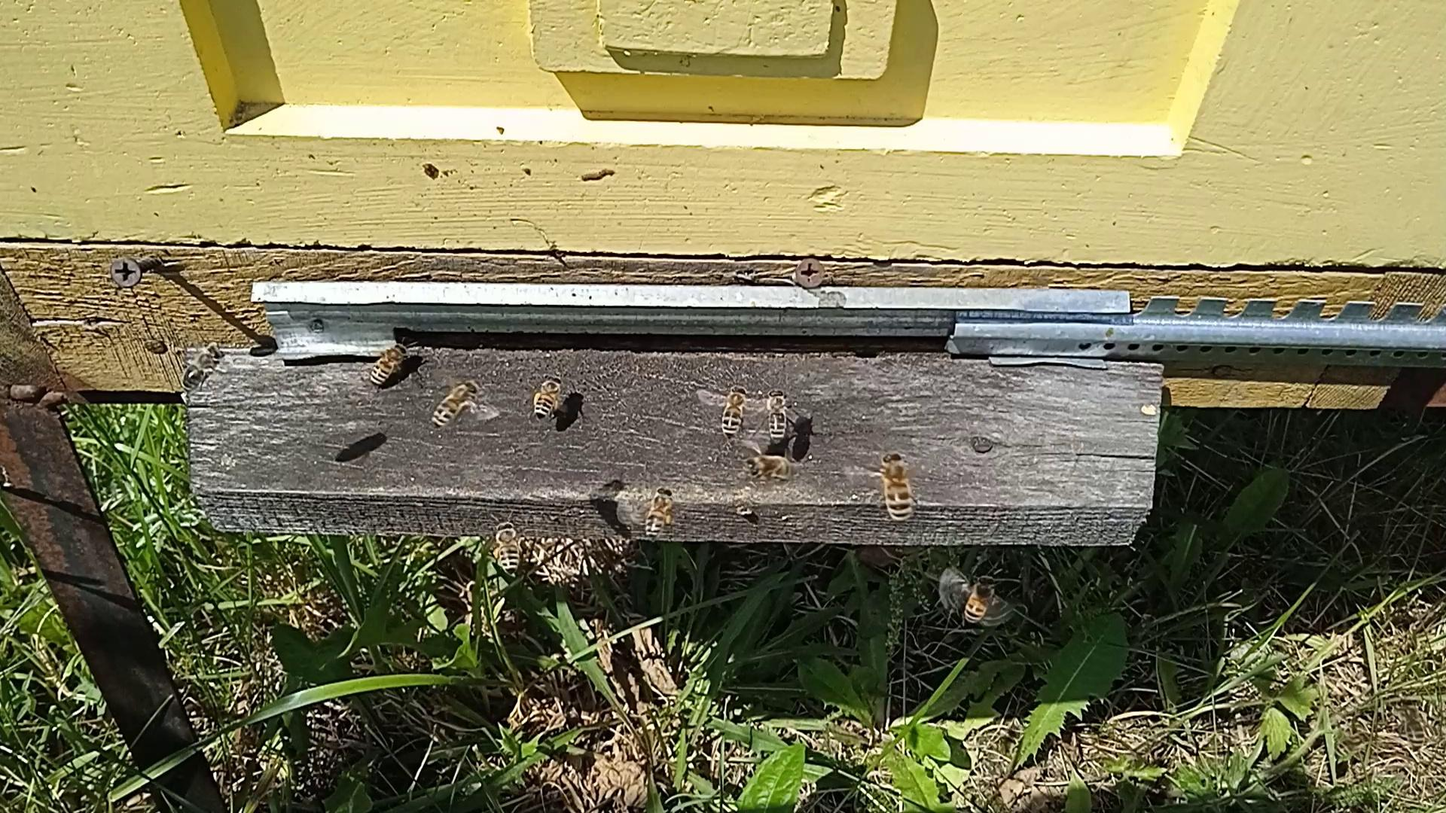worker-bee: (878, 451, 915, 522), (431, 379, 480, 428), (183, 343, 225, 390), (371, 340, 413, 386), (642, 486, 676, 540), (964, 575, 996, 625), (493, 521, 522, 574), (532, 375, 566, 419), (746, 453, 797, 482), (721, 385, 748, 437), (765, 388, 790, 443), (1401, 700, 1423, 751), (1332, 735, 1375, 757)
